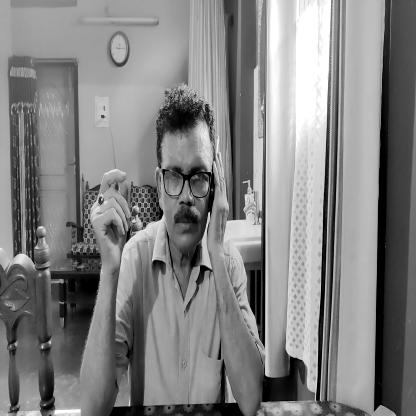Normal: (154, 86, 216, 256)
